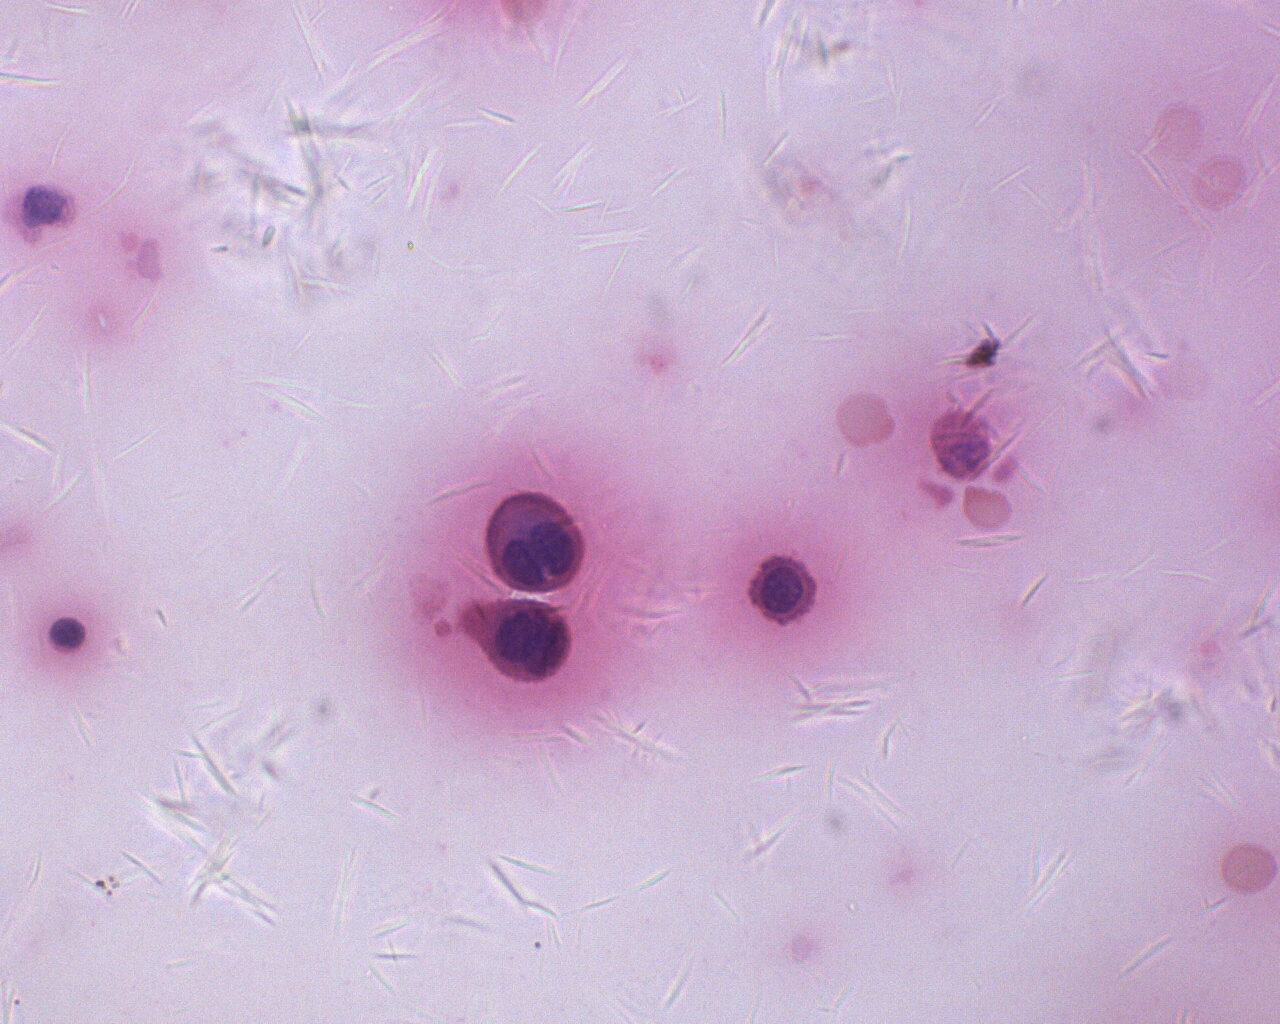ab: (466, 594, 576, 686), (742, 549, 822, 636)
lymph: (44, 615, 91, 656)
meso: (483, 482, 594, 592)
